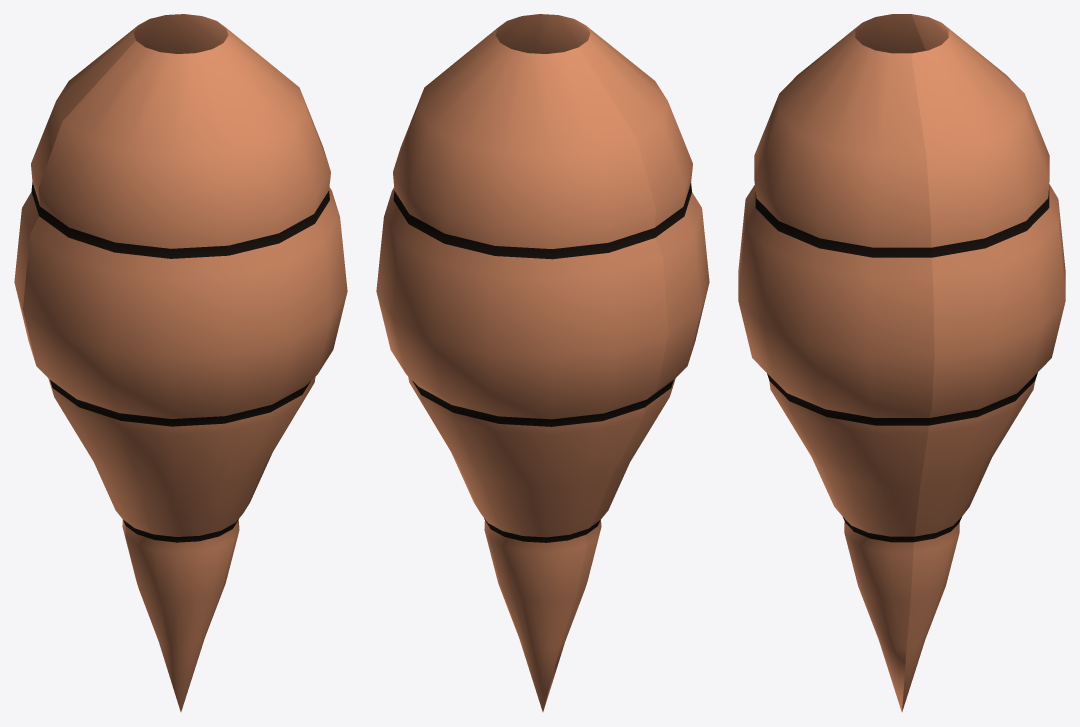
File: cogwork_dancer_corpse_abdomen.glb
The picture shows the model from 3 angles, left to right: view 1: azimuth 30°, elevation 25°; view 2: azimuth 150°, elevation 25°; view 3: azimuth 270°, elevation 25°; orthographic projection.
Parts seen in each view (by area): view 1: Abdomen; view 2: Abdomen; view 3: Abdomen.
Part boxes in pixels (box(x1,y1,x2,y2)): Abdomen: box(14, 14, 347, 711); Abdomen: box(376, 14, 709, 711); Abdomen: box(738, 14, 1065, 711).
Bounding box in the file's own units: 0.718 × 1.64 × 0.718.
